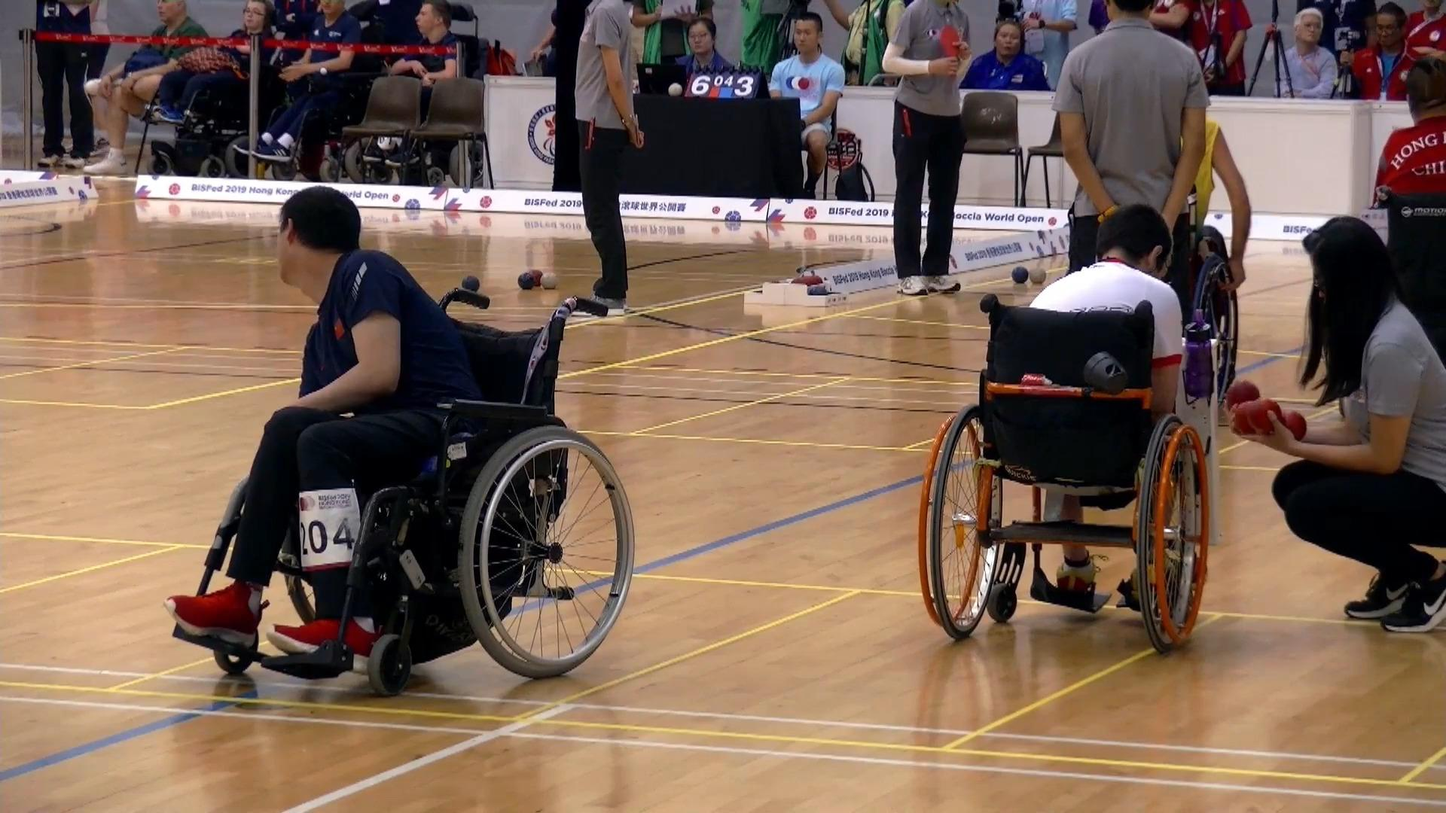blue_ball: (460, 274, 482, 293), (1011, 264, 1030, 285), (518, 272, 535, 290)
white_ball: (1030, 265, 1046, 285), (542, 271, 558, 290)
